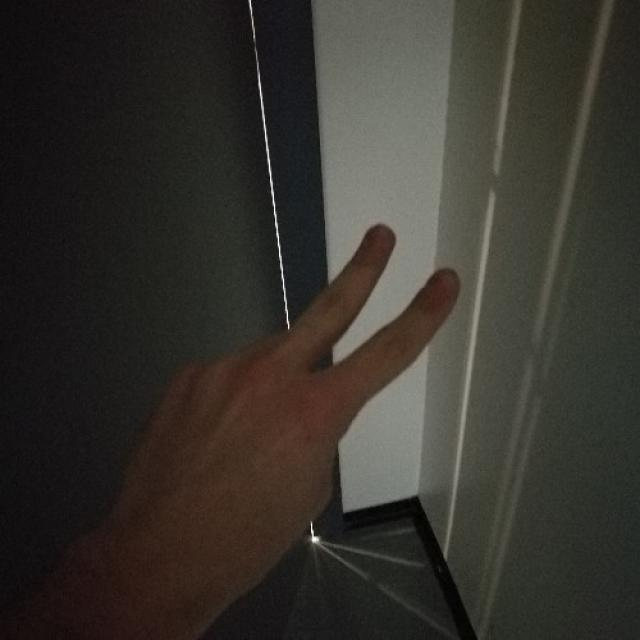scissors: (116, 220, 466, 582)
